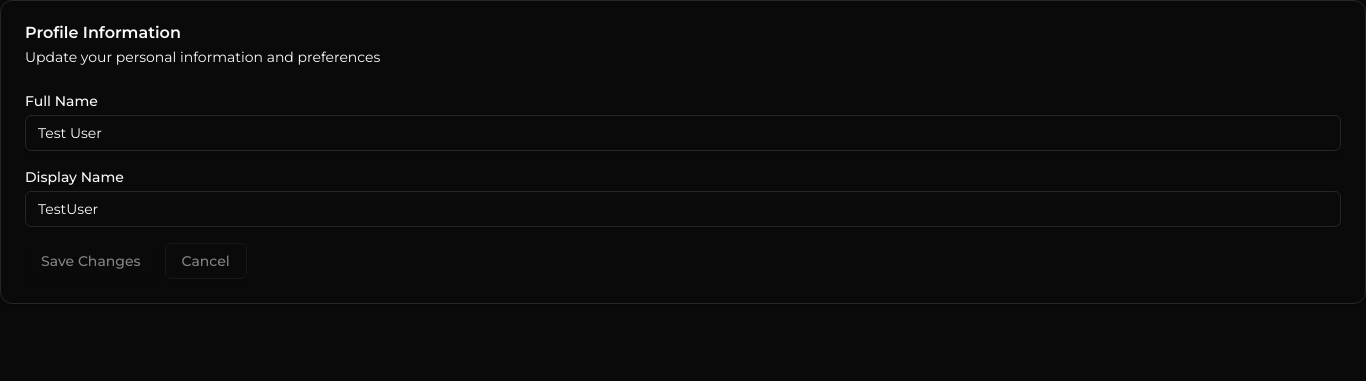
Test: ProfileForm › validates display name format
This screenshot has width=1366, height=381.
Replace the text in the field labelled "Display Name" with "invalid name!" at (683,209), box x1=25 y1=191 x2=1341 y2=227
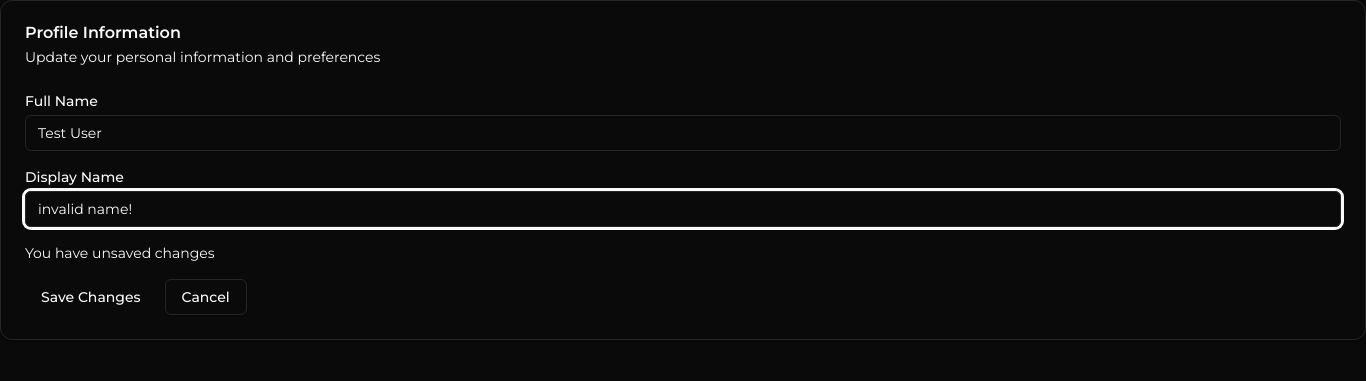
Click the button "Save Changes".
click(91, 297)  # box x1=25 y1=279 x2=156 y2=315
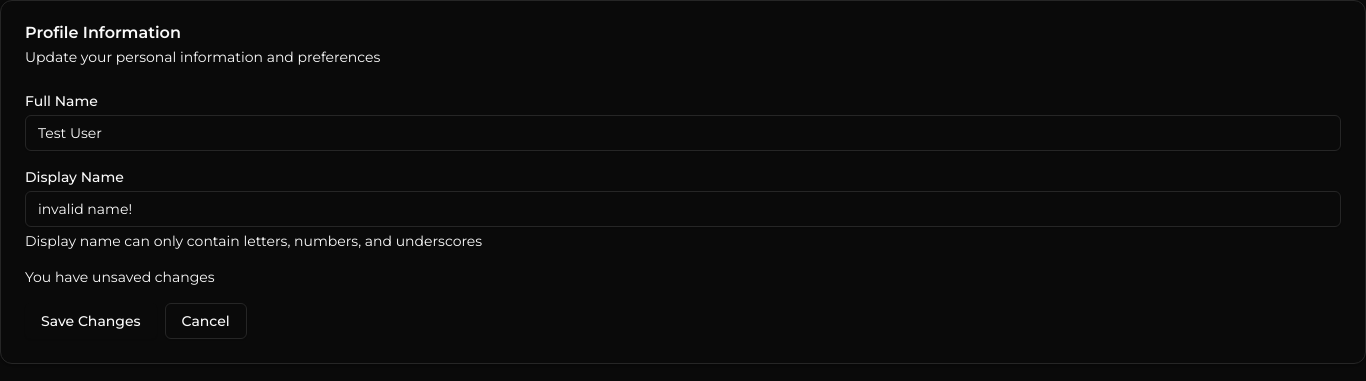
Result: the text "Display name can only contain letters, numbers, and underscores" is shown at x1=25 y1=232 x2=482 y2=250
